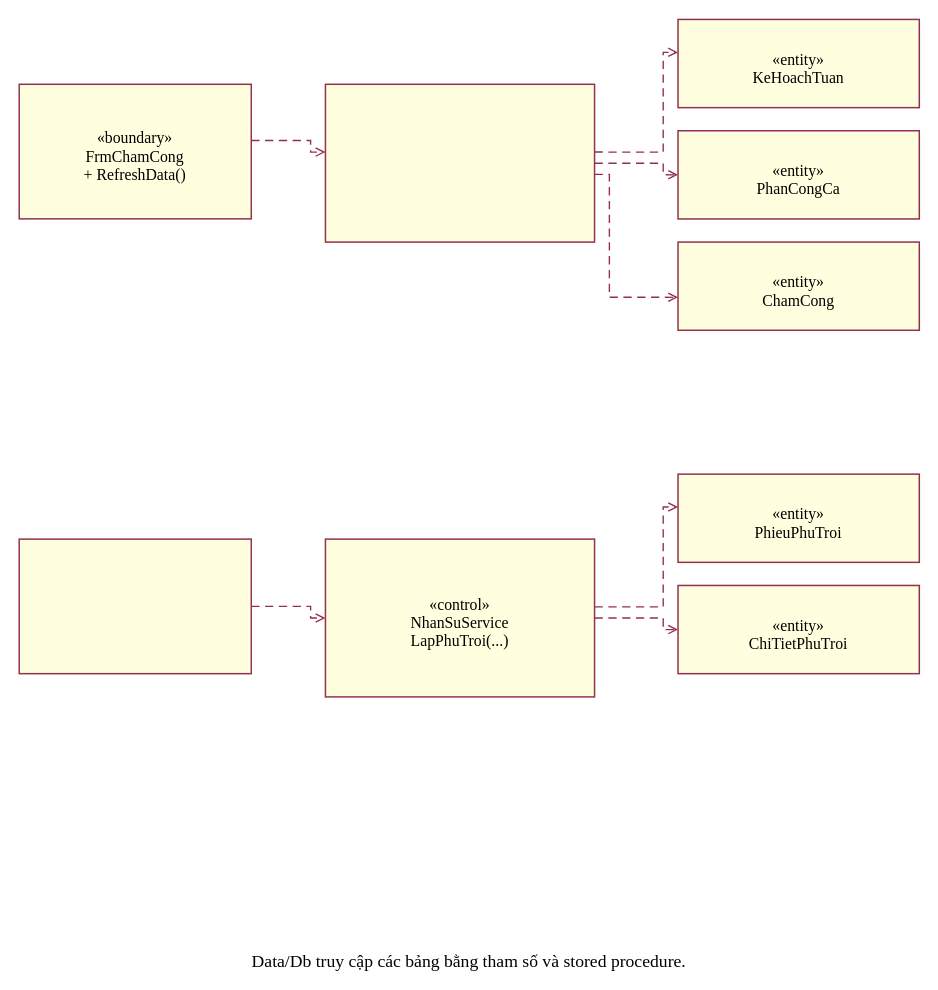
Image size: 938x990. Some labels were removed from this diagram. The shapes that lost their labels are listed below. From the top down, each one's box as (x1, y1, x2, y2) in pixels, then its label:
(324, 83, 595, 242): «control» NhanSuService PhanCong() + GhiChamCong(...)
(18, 538, 252, 674): «boundary» FrmPhuTroi + RefreshData()
